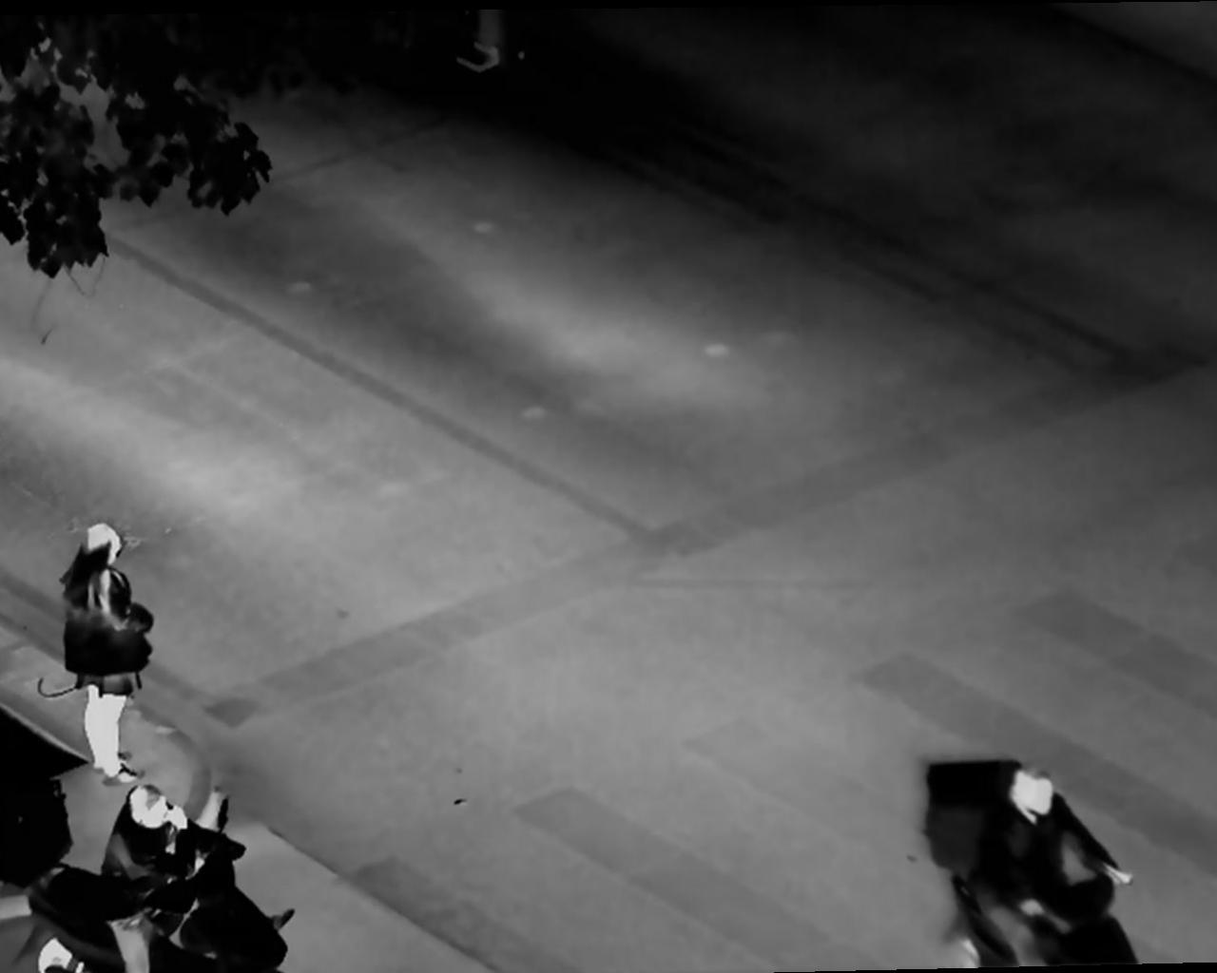person: (975, 753, 1116, 954), (60, 519, 151, 780), (96, 787, 219, 967)
